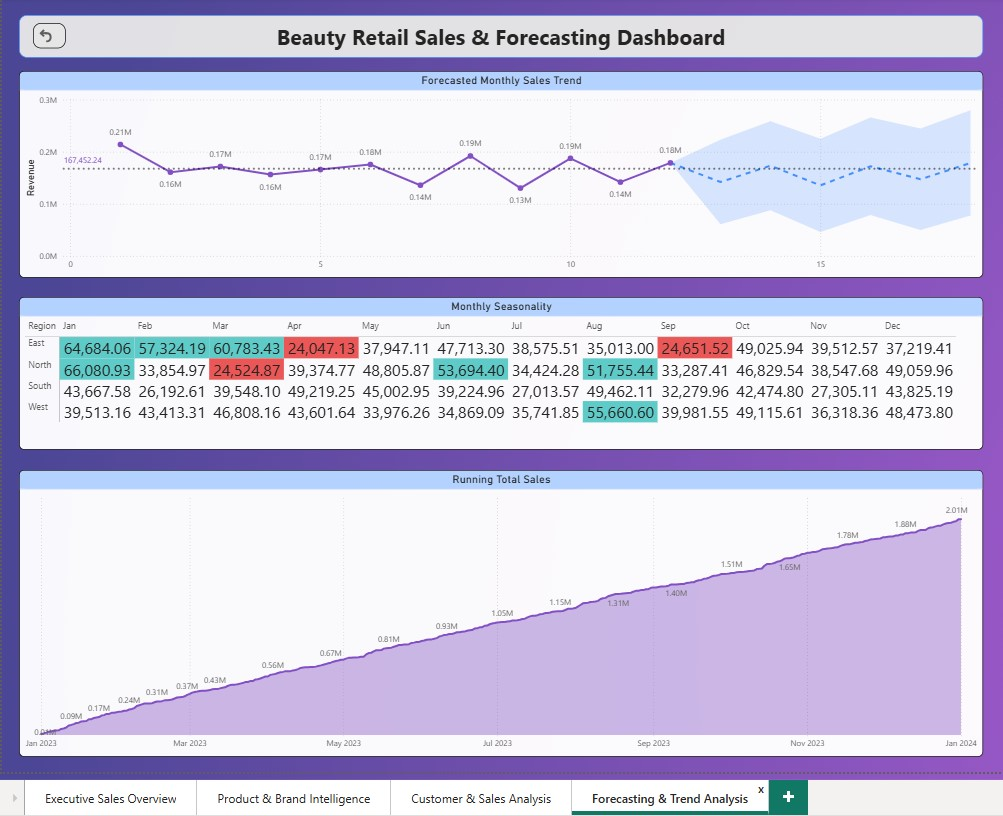

The dashboard page shown, as its layout file describes it:
{"tool":"powerbi","page":{"name":"Forecasting & Trend Analysis","canvas":[1500,1160],"ordinal":3},"visuals":[{"type":"textbox","box":[26,26,1445,64.2],"z":0},{"type":"pivotTable","title":"Monthly Seasonality","fields":{"Rows":["Retail_Fact_Table.Region"],"Values":["Retail_Fact_Table.TOTAL_Revenue"],"Columns":["Date_Table.Month_Name"]},"box":[25.5,448.1,1444.8,229.3],"z":1000},{"type":"areaChart","title":"Running Total Sales","fields":{"Y":["Retail_Fact_Table.Running_Revenue"],"Category":["Date_Table.Date"]},"box":[25.5,707.4,1444.8,430.1],"z":2000},{"type":"lineChart","title":"Forecasted Monthly Sales Trend","fields":{"Y":["Retail_Fact_Table.TOTAL_Revenue"],"Category":["Date_Table.Month_Num"]},"box":[26,110,1445,310.1],"z":4000},{"type":"actionButton","box":[45.8,38.2,48.9,38.2],"z":4001}]}

Visuals, with their boxes on the page's 1500x1160 design canvas (x1, y1, x2, y2). These are canvas units, not pixel positions in the 1003x816 screenshot, which may show the page scaled, cropped or inside an application window:
textbox: x1=26 y1=26 x2=1471 y2=90
"Monthly Seasonality" pivotTable: x1=26 y1=448 x2=1470 y2=677
"Running Total Sales" areaChart: x1=26 y1=707 x2=1470 y2=1138
"Forecasted Monthly Sales Trend" lineChart: x1=26 y1=110 x2=1471 y2=420
actionButton: x1=46 y1=38 x2=95 y2=76
